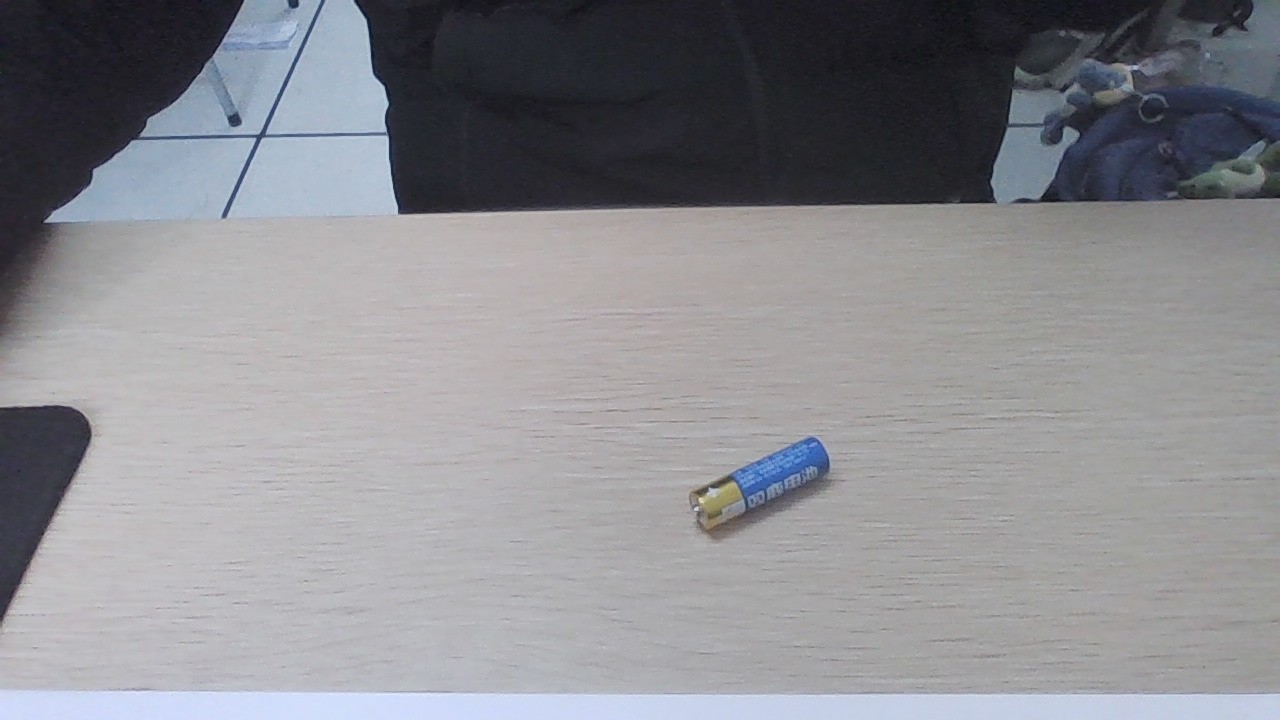YH-battery: (684, 437, 831, 524)
